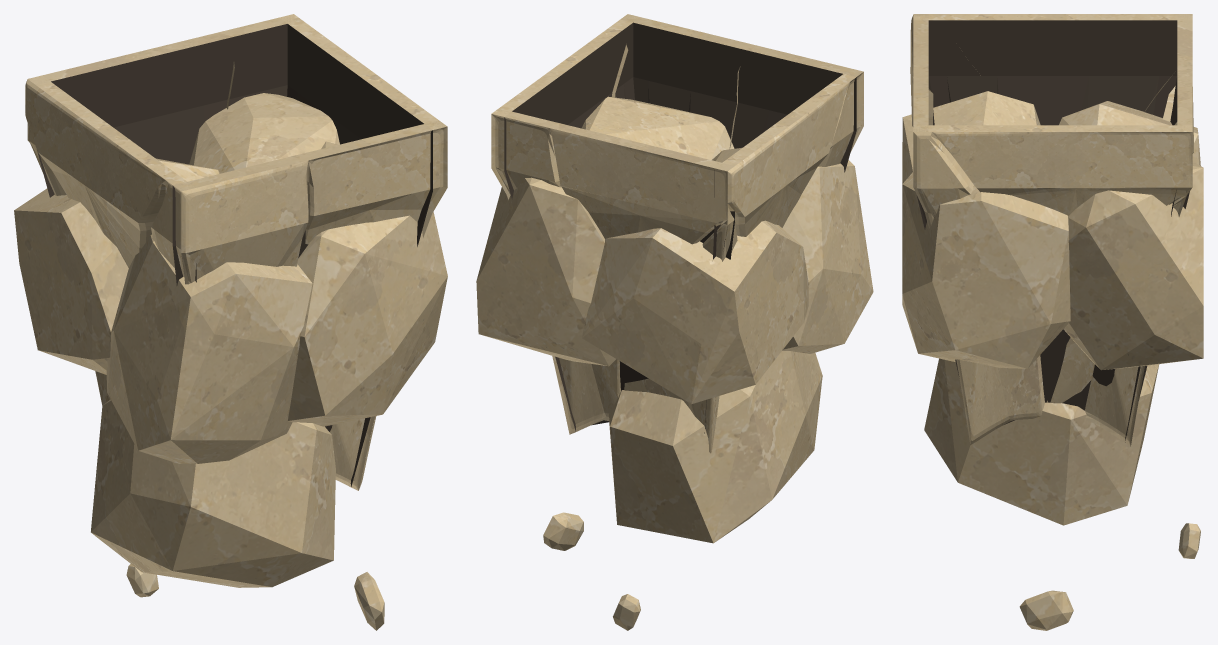
The model's file is ground_bottom_square_island_02.glb.
3 renders of one model, left to right at view 1: azimuth 30°, elevation 25°; view 2: azimuth 150°, elevation 25°; view 3: azimuth 270°, elevation 25°, orthographic. The views are drawn at different scales.
Parts seen in each view (by area): view 1: GroundBottomSquareIsland02_Body; view 2: GroundBottomSquareIsland02_Body; view 3: GroundBottomSquareIsland02_Body.
Part boxes in pixels (x1,y1,x2,y2): GroundBottomSquareIsland02_Body: [14, 14, 447, 630]; GroundBottomSquareIsland02_Body: [476, 14, 873, 630]; GroundBottomSquareIsland02_Body: [902, 14, 1203, 630].
Bounding box in the file's own units: 1.08 × 1.98 × 1.08.
14 materials, 13 textured.
